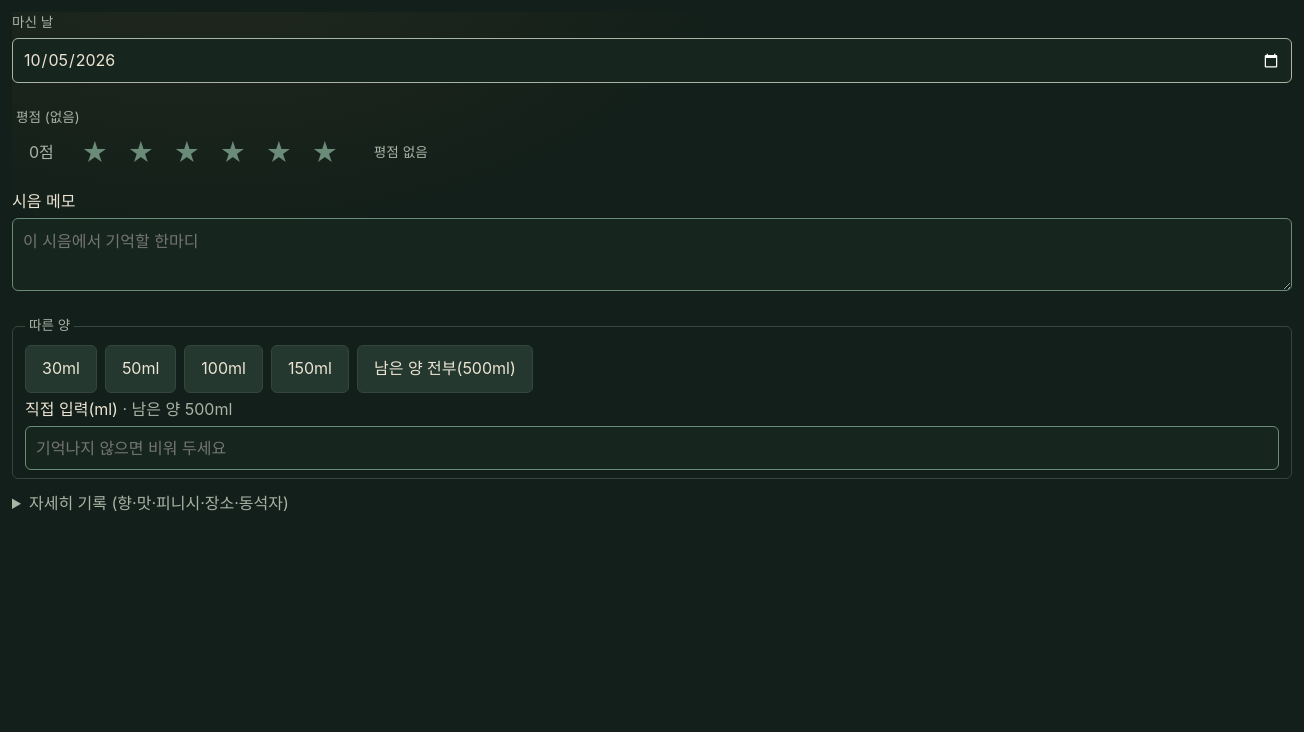
TastingFields › 남은 양을 알면 한 번에 다 마신 양을 고를 수 있고 소진된다고 알린다
Click the button "남은 양 전부(500ml)" at (445, 369), box [357, 345, 533, 393]
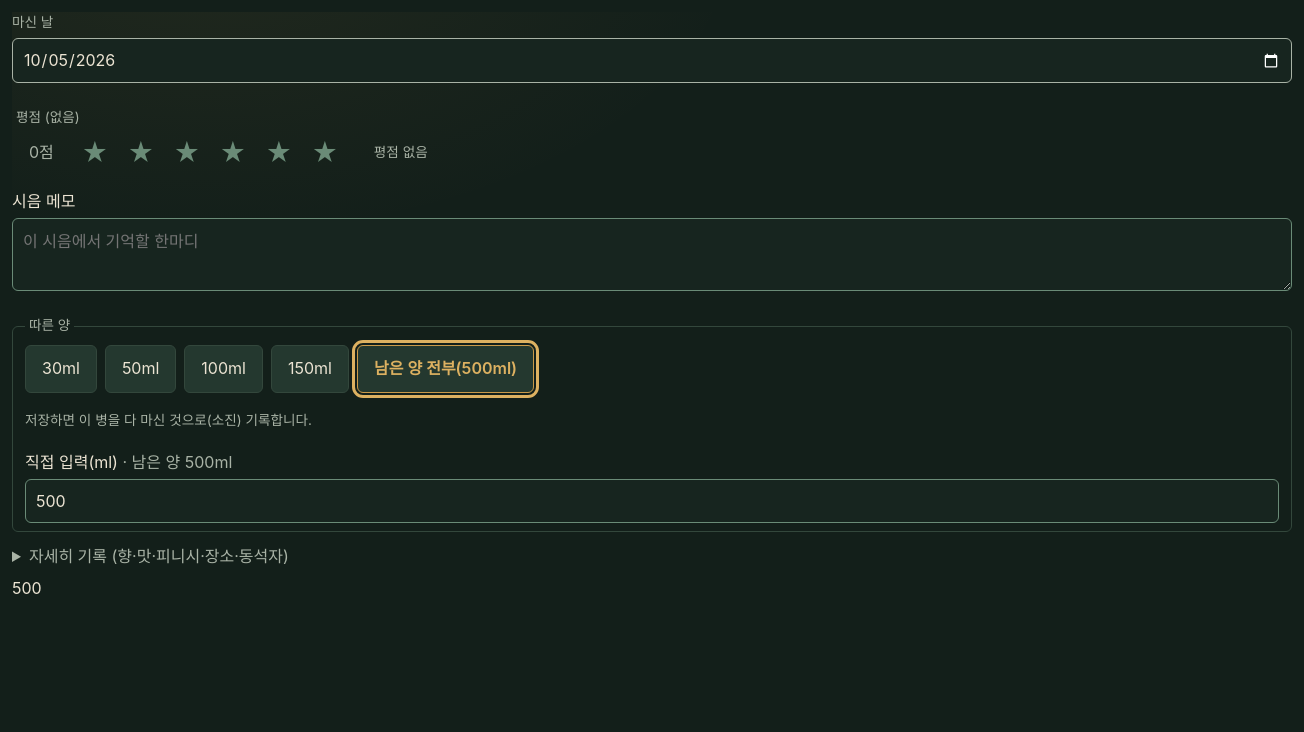
Expected: the button "150ml" is enabled, [271, 345, 349, 393]
Expected: the text with test id "poured" reads "500", [12, 578, 42, 598]
Expected: the text "저장하면 이 병을 다 마신 것으로(소진) 기록합니다." is shown, [25, 412, 312, 428]
